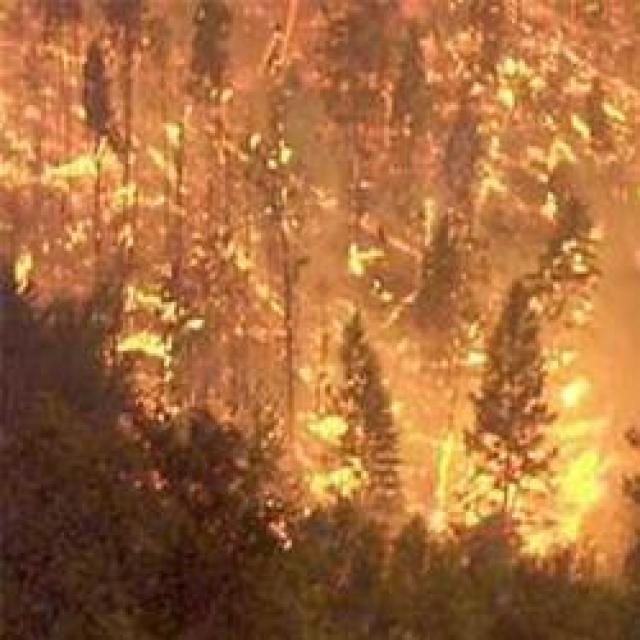fire: (546, 376, 640, 548)
